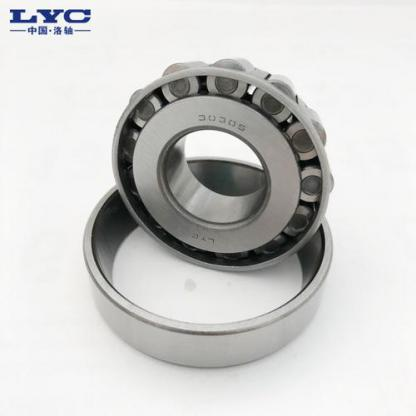FOD: (79, 54, 340, 373)
